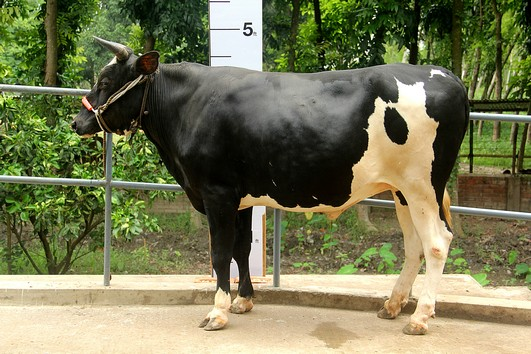cow: (73, 33, 471, 337)
